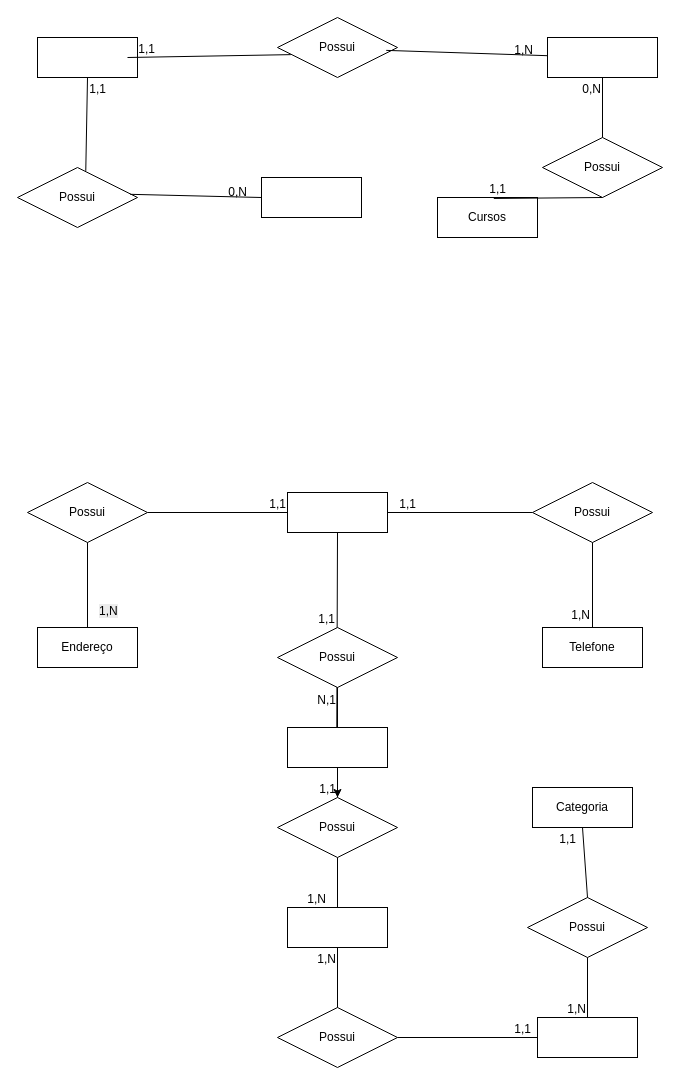
Some shapes in this 680 by 1085 pixel diagram are drawn without their labels. The centre of each missing label's shape, as x and y in pixels:
Alunos: the point at 87,57
Clientes: the point at 337,512
Fiaps: the point at 311,197
Itens_pedidos: the point at 337,927
Matruiculas: the point at 602,57
Pedidos: the point at 337,747
Produtos: the point at 587,1037
